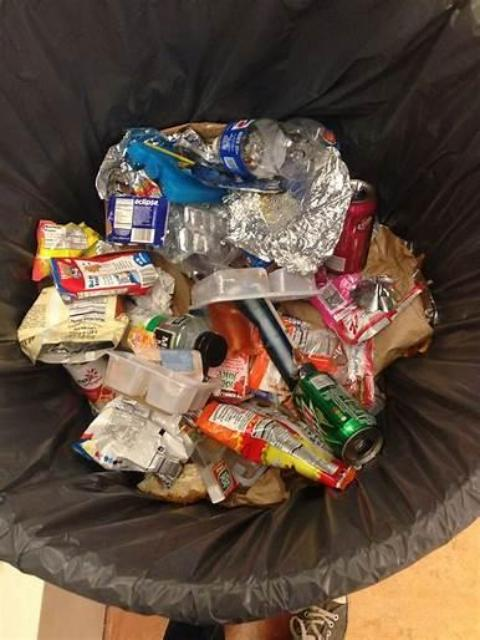Garbage: (12, 116, 448, 508)
Plastic: (159, 205, 240, 278)
Plastic_Container: (105, 353, 219, 413), (193, 268, 317, 308), (194, 435, 239, 503)
Plastic_bottle: (206, 117, 336, 193), (125, 306, 228, 374), (64, 355, 121, 414)
Plastic_wraper: (222, 117, 353, 274), (95, 124, 285, 199), (195, 401, 356, 489), (79, 396, 194, 483), (18, 286, 129, 363), (209, 302, 291, 402), (311, 273, 397, 343), (53, 251, 157, 301), (33, 220, 99, 282), (283, 316, 346, 374), (344, 339, 375, 407)
can: (294, 364, 384, 466), (325, 180, 379, 273)
